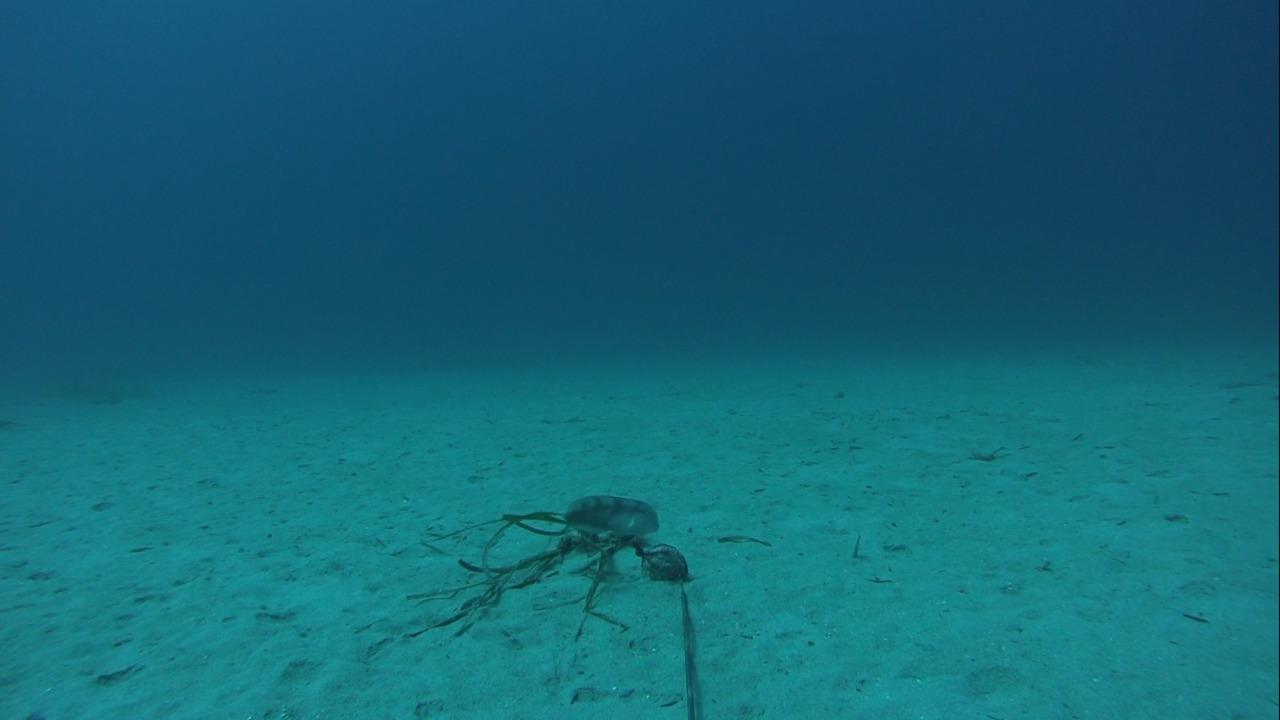raor: (554, 490, 663, 542)
